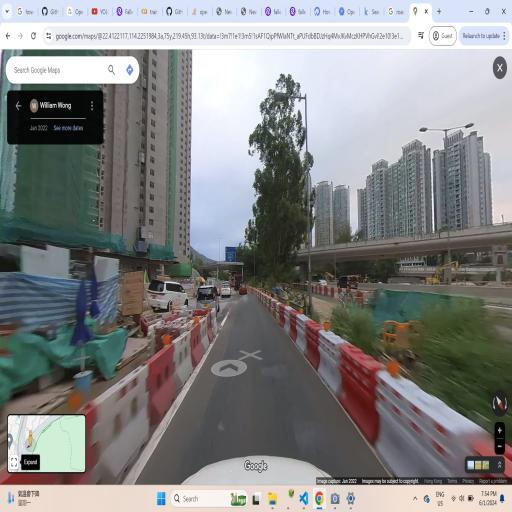Roads: (154, 269, 368, 494)
Trees: (241, 64, 323, 286)
